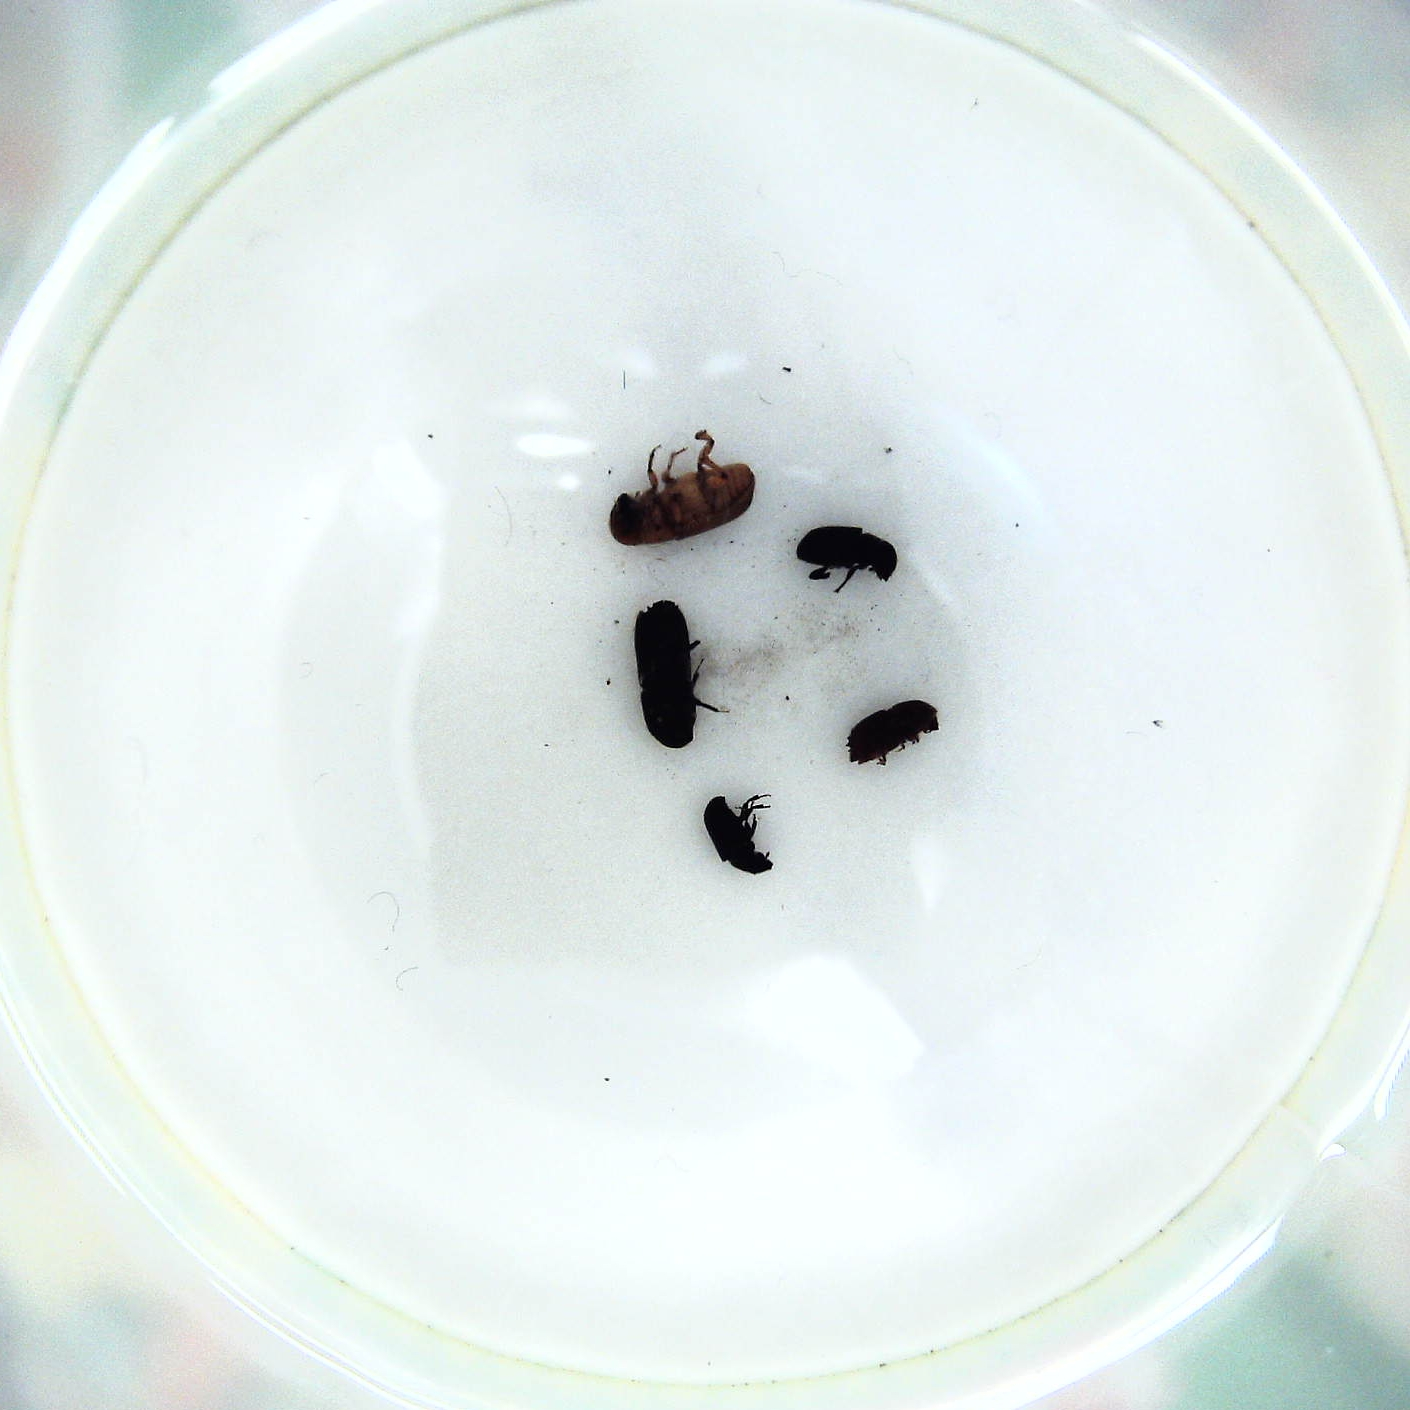Boerner: (630, 597, 723, 748)
Leconte: (608, 424, 762, 553)
armandi: (792, 522, 903, 595)
coleoptera: (696, 785, 779, 878)
linnaeus: (841, 697, 943, 768)
